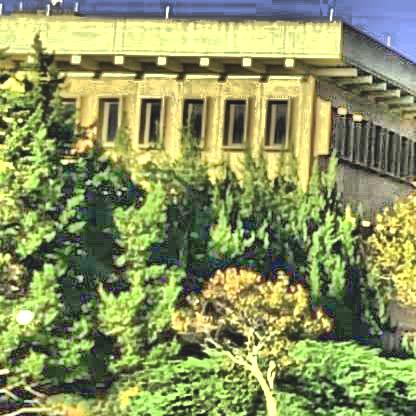golfball: (12, 306, 31, 321)
